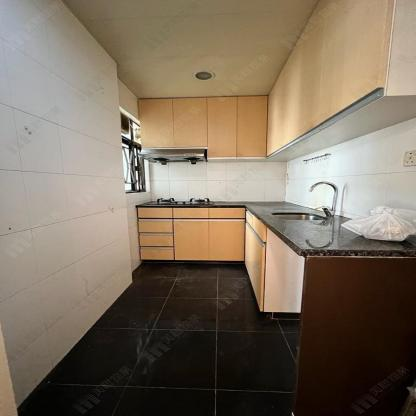Cupboard: (135, 0, 398, 158), (137, 205, 265, 314)
Exhaust Hood: (137, 148, 207, 165)
Faucet: (308, 178, 343, 220)
Sink: (270, 211, 330, 221)
Stove: (147, 197, 214, 204)
